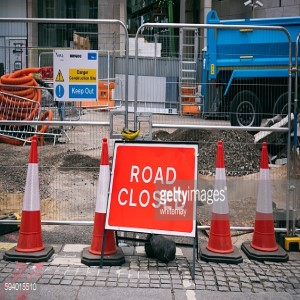traffic cone: (4, 139, 54, 262), (241, 141, 289, 262), (81, 138, 126, 265), (199, 141, 242, 263)
